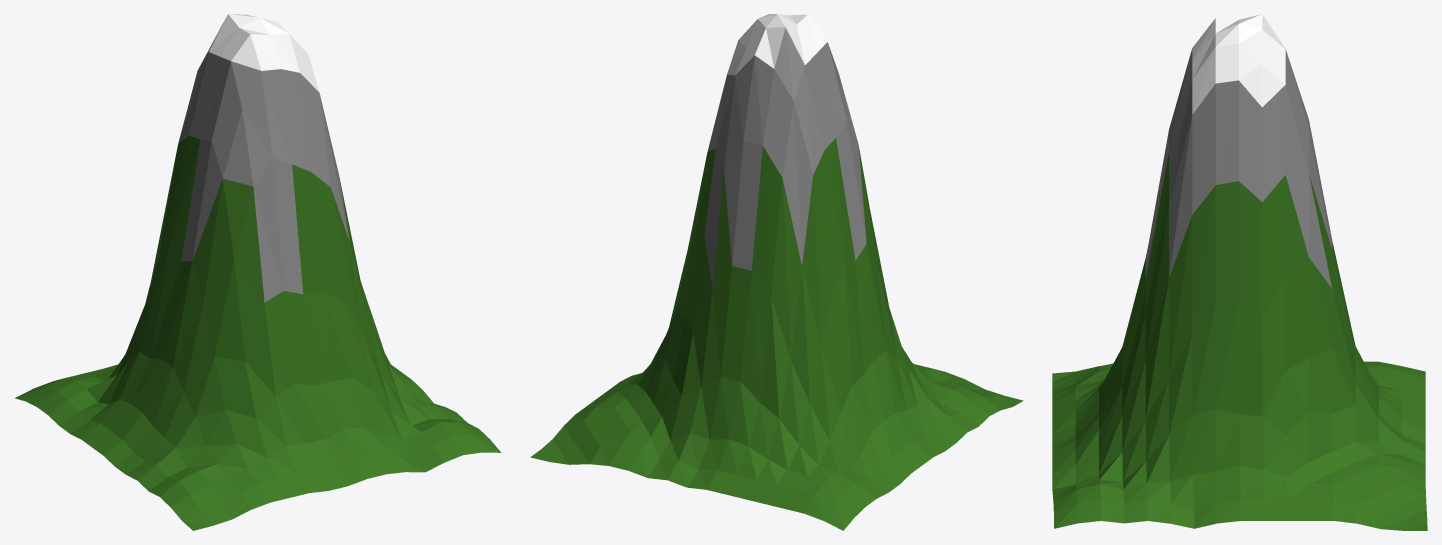
Rendered from ground8.fbx.
3 views of the same model, side by side, from view 1: azimuth 30°, elevation 25°; view 2: azimuth 150°, elevation 25°; view 3: azimuth 270°, elevation 25° (orthographic). The views are drawn at different scales.
Visible parts, largest first — view 1: Plane; view 2: Plane; view 3: Plane.
Boxes of the visible parts, <box> form: Plane: <box>15,14,501,530</box>; Plane: <box>530,14,1023,530</box>; Plane: <box>1052,14,1427,530</box>.
Bounding box in the file's own units: 99.9 × 127 × 101.
Materials: 1 (1 with a texture image).
